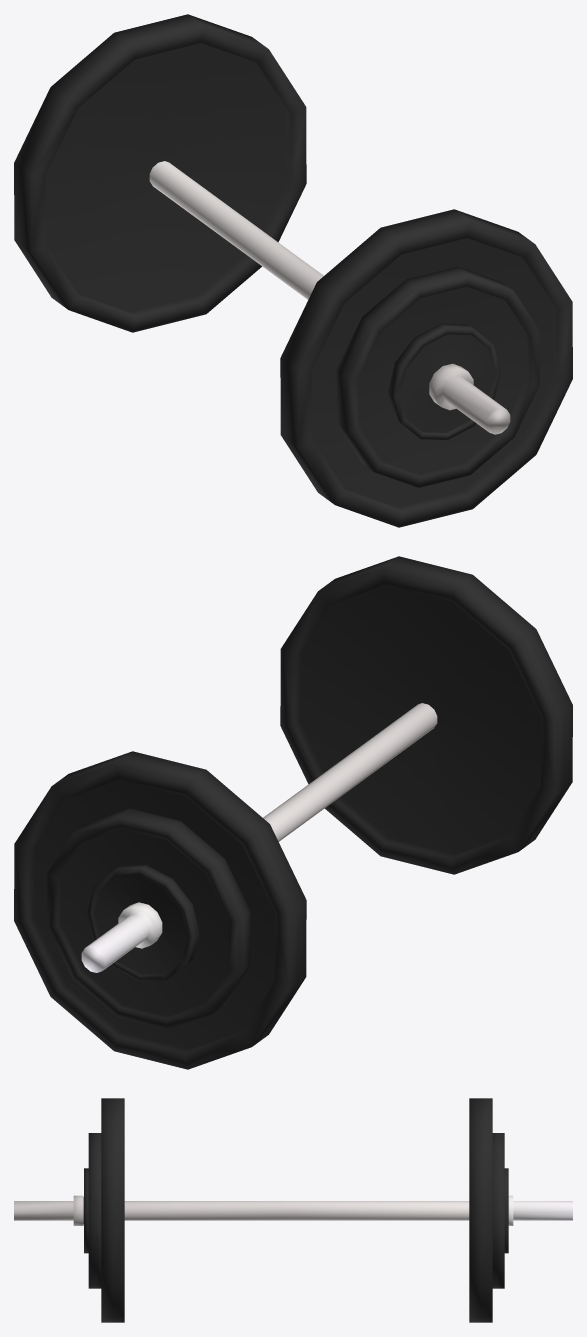
Rendered from BarbellHeavy.glb.
3 renders of one model, top to bottom at view 1: azimuth 30°, elevation 25°; view 2: azimuth 150°, elevation 25°; view 3: azimuth 270°, elevation 25°, orthographic. The views are drawn at different scales.
Parts seen in each view (by area): view 1: BarbellHeavy; view 2: BarbellHeavy; view 3: BarbellHeavy.
Boxes of the visible parts, left/top/right/bottom form: BarbellHeavy: left=14, top=14, right=572, bottom=527; BarbellHeavy: left=14, top=556, right=572, bottom=1069; BarbellHeavy: left=14, top=1098, right=572, bottom=1322.
Bounding box in the file's own units: 0.8183 × 0.8183 × 2.08.
2 materials, 2 textured.
